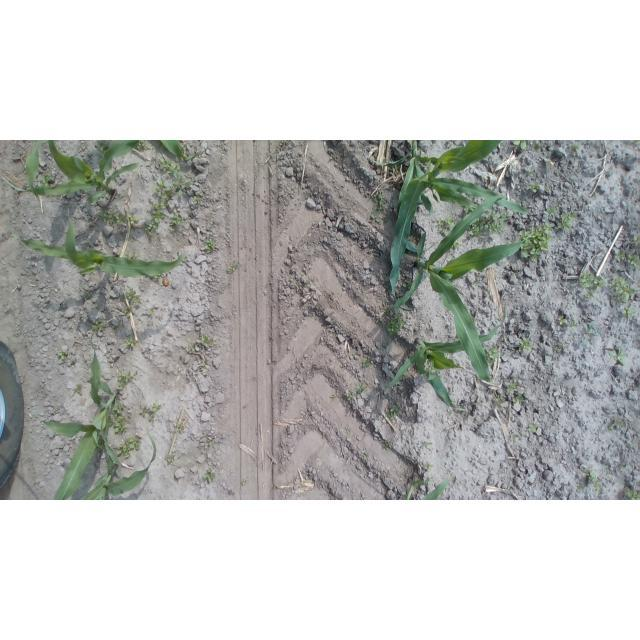Maize: (388, 195, 532, 381), (390, 140, 505, 292), (32, 337, 122, 500), (384, 307, 507, 415), (1, 141, 206, 202), (12, 218, 184, 279), (368, 140, 504, 217), (79, 429, 157, 500), (402, 470, 450, 500)
Weeds: (151, 155, 193, 199), (517, 221, 555, 261), (470, 210, 510, 238), (144, 203, 169, 237), (608, 274, 636, 304), (579, 270, 606, 301), (111, 398, 129, 434), (99, 211, 139, 226), (117, 435, 140, 459), (369, 194, 385, 223), (386, 314, 406, 337), (137, 403, 162, 421), (584, 467, 601, 493), (436, 216, 456, 235), (125, 286, 142, 306), (583, 322, 597, 346), (557, 212, 578, 228), (483, 346, 499, 366), (169, 212, 184, 233), (117, 371, 133, 390), (608, 347, 624, 365), (203, 466, 217, 484), (200, 238, 215, 254), (353, 381, 368, 397), (92, 319, 109, 333), (39, 170, 53, 187), (386, 404, 400, 420), (627, 253, 640, 268), (624, 488, 640, 500), (94, 140, 107, 154), (518, 339, 533, 351), (623, 305, 636, 318), (548, 204, 561, 217), (506, 379, 518, 393), (226, 260, 238, 274), (512, 140, 528, 150), (124, 336, 137, 348), (56, 347, 68, 359), (528, 182, 540, 193), (451, 238, 462, 249), (124, 305, 134, 317), (513, 393, 524, 403), (138, 140, 149, 150), (571, 141, 582, 151), (495, 395, 505, 405), (557, 315, 567, 325), (615, 250, 625, 260), (534, 140, 544, 150), (361, 357, 371, 367), (632, 235, 640, 247), (176, 422, 185, 432), (463, 205, 474, 213), (528, 424, 537, 433), (569, 320, 578, 329), (167, 455, 176, 464), (81, 292, 90, 301), (613, 416, 623, 424), (383, 339, 393, 347), (423, 463, 433, 471), (192, 195, 200, 205), (512, 436, 521, 444), (363, 452, 371, 461), (411, 219, 417, 230), (75, 383, 81, 394), (556, 343, 565, 350), (381, 443, 390, 450), (148, 307, 157, 314), (207, 436, 214, 445), (330, 393, 338, 400), (344, 392, 352, 399), (377, 315, 383, 324), (427, 476, 433, 485), (426, 365, 433, 372), (471, 280, 478, 287), (576, 485, 584, 491), (240, 479, 248, 485), (620, 462, 625, 471), (424, 442, 433, 447), (633, 140, 640, 146), (111, 326, 117, 333), (388, 203, 392, 213), (530, 168, 534, 177), (104, 458, 108, 467), (96, 163, 100, 171), (603, 468, 609, 473), (545, 188, 550, 193), (80, 477, 85, 482), (304, 280, 310, 284), (52, 411, 56, 416), (447, 476, 451, 481)
